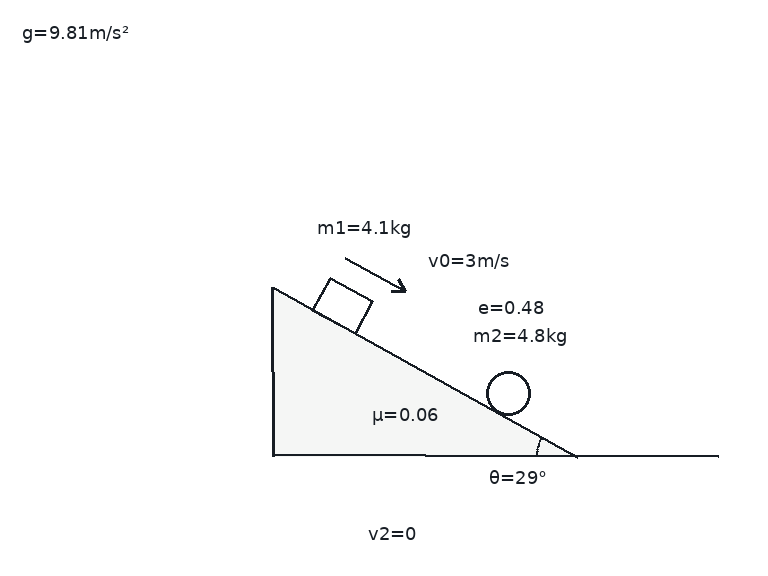ball: (484, 369, 532, 417)
block: (310, 276, 374, 335)
ramp: (272, 286, 579, 458)
